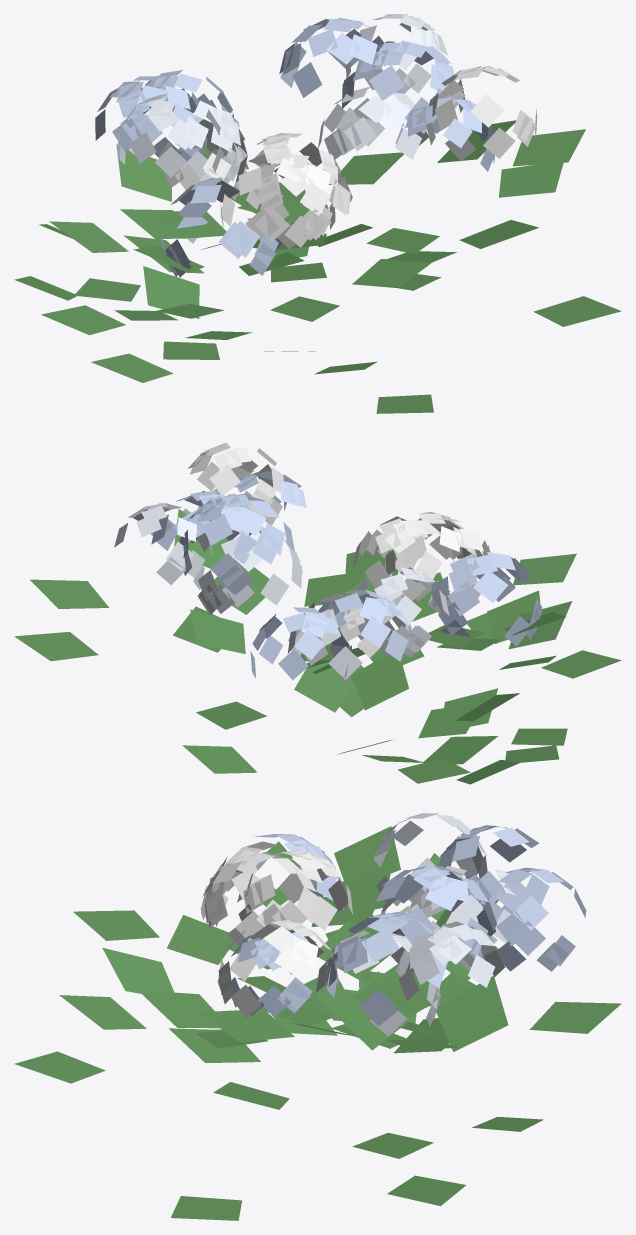
The model's file is hydrangea_bush.glb.
The picture shows the model from 3 angles, top to bottom: view 1: azimuth 30°, elevation 25°; view 2: azimuth 150°, elevation 25°; view 3: azimuth 270°, elevation 25°; orthographic projection. The views are drawn at different scales.
Visible parts, largest first — view 1: hydrangea_bush; view 2: hydrangea_bush; view 3: hydrangea_bush.
Boxes of the visible parts, box(x1,y1,x2,y2) form: hydrangea_bush: box(14, 14, 621, 413); hydrangea_bush: box(14, 442, 621, 784); hydrangea_bush: box(14, 813, 621, 1220).
Bounding box in the file's own units: 1.74 × 0.761 × 1.53.
